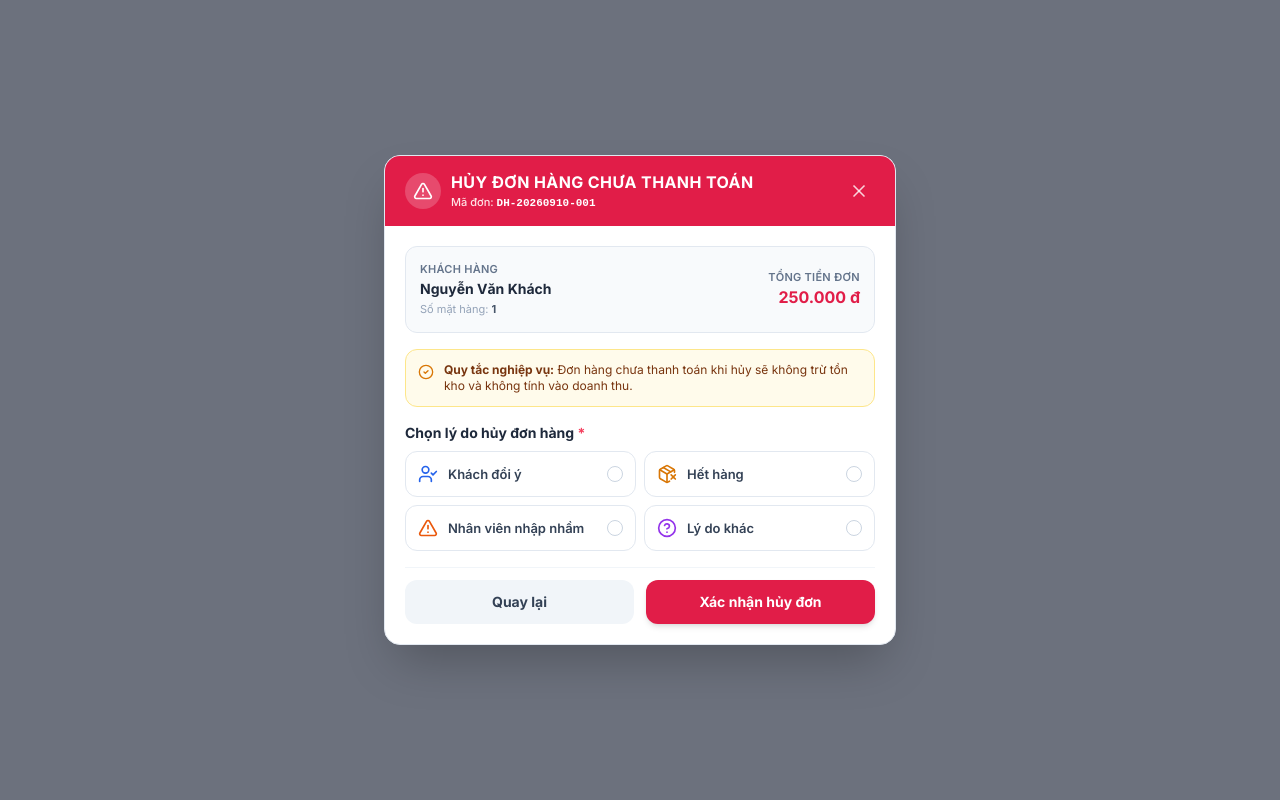
it: NCL-03-CN-009: Hủy đơn chưa thanh toán kèm lý do › CancelOrderModal - Giao diện và Kiểm thử Nghiệp vụ › NCL-03-CN-009-TC-02: Chặn hủy khi chọn lý do OTHER nhưng không nhập ghi chú chi tiết
The image size is (1280, 800).
Chọn lý do "Lý do khác"
Click the button "Lý do khác". click: (760, 528)
box: [644,505,875,551]
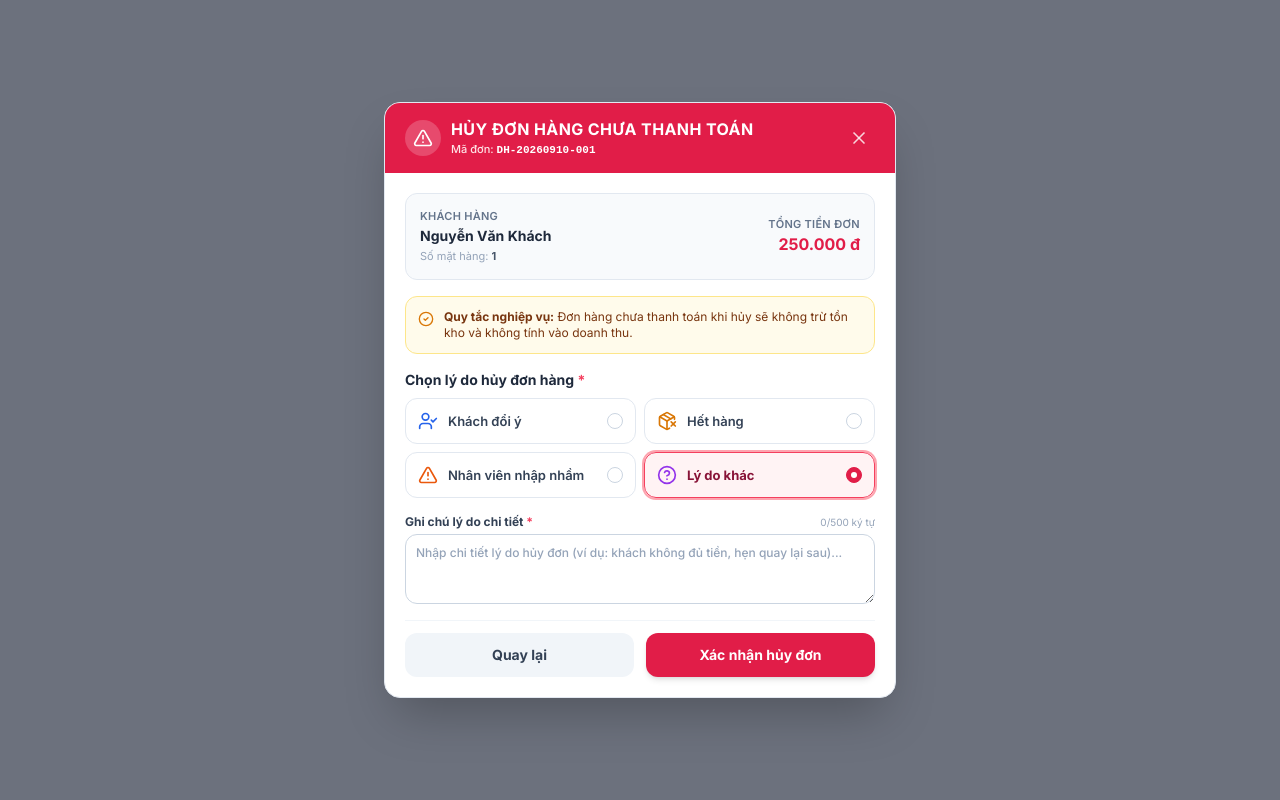
expect the text box with placeholder "Nhập chi tiết lý do hủy đơn" is shown: met, box [405,534,875,604]
Click the button "Xác nhận hủy đơn". click: (760, 655)
box: [646,633,875,677]
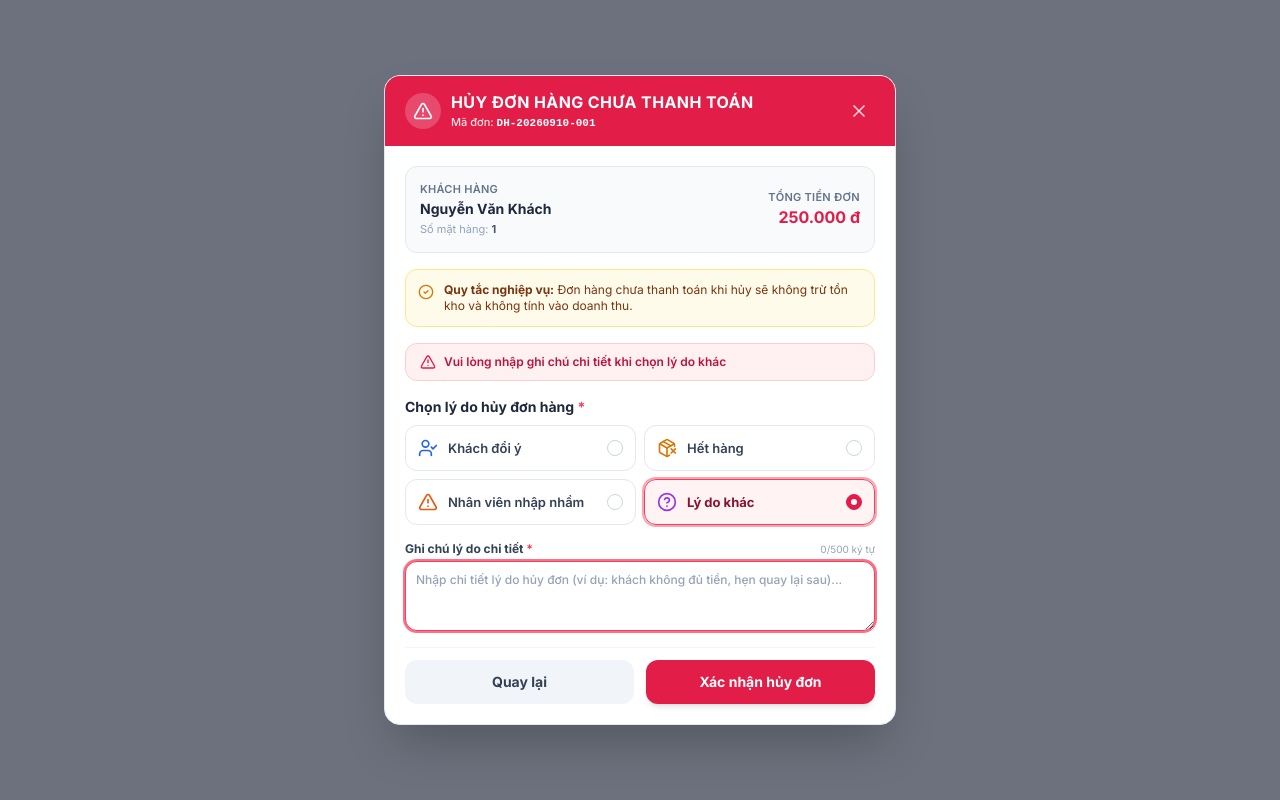
expect the text "Vui lòng nhập ghi chú chi tiết khi chọn lý do khác" is shown: met, box [444,354,726,370]
